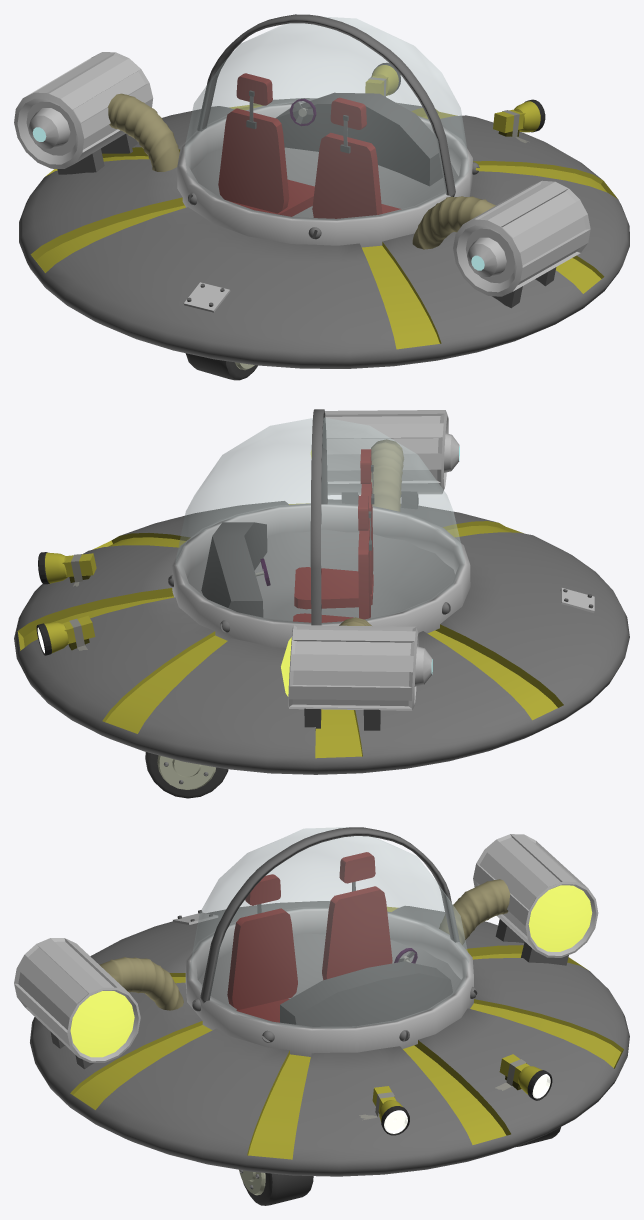
File: Nave.glb
3 views of the same model, one above another, from view 1: azimuth 30°, elevation 25°; view 2: azimuth 150°, elevation 25°; view 3: azimuth 270°, elevation 25° (orthographic). The views are drawn at different scales.
Parts seen in each view (by area): view 1: Carcasa.001, Cupula, Carcasa.003, Foco.001, Foco2.006, Asiento1, Cuadro_Mandos, Asiento2, Carcasa, Foco2, Foco.003, Foco2.001 (+5 smaller); view 2: Carcasa.001, Cupula, Carcasa.003, Foco2.006, Foco.001, Cuadro_Mandos, Asiento2, Carcasa, Rueda.002, Foco.003, Asiento1, Linterna.003 (+2 smaller); view 3: Carcasa.001, Cupula, Carcasa.003, Foco.001, Foco2.006, Cuadro_Mandos, Asiento2, Asiento1, Carcasa, Foco.003, Foco2, Rueda.001.
Boxes of the visible parts, x1,y1,x2,y2 form: Carcasa.001: (19, 98, 629, 368); Cupula: (184, 16, 469, 220); Carcasa.003: (177, 101, 472, 247); Foco.001: (453, 180, 590, 296); Foco2.006: (14, 52, 153, 168); Asiento1: (218, 73, 314, 216); Cuadro_Mandos: (275, 92, 442, 186); Asiento2: (312, 97, 401, 218); Carcasa: (197, 14, 455, 196); Foco2: (107, 93, 179, 171); Foco.003: (412, 196, 495, 249); Foco2.001: (28, 108, 70, 148); Carcasa.001: (14, 499, 629, 774); Cupula: (175, 417, 464, 624); Carcasa.003: (172, 502, 470, 647); Foco2.006: (281, 625, 418, 710); Foco.001: (310, 410, 448, 495); Cuadro_Mandos: (201, 522, 267, 617); Asiento2: (294, 449, 374, 609); Carcasa: (310, 409, 327, 625); Rueda.002: (145, 752, 228, 798); Foco.003: (371, 439, 403, 511); Asiento1: (293, 495, 371, 622); Linterna.003: (45, 552, 67, 583); Carcasa.001: (30, 901, 629, 1176); Cupula: (189, 827, 469, 1028); Carcasa.003: (185, 907, 473, 1056); Foco.001: (14, 938, 140, 1062); Foco2.006: (473, 834, 598, 957); Cuadro_Mandos: (280, 961, 452, 1026); Asiento2: (227, 874, 297, 1022); Asiento1: (322, 852, 392, 980); Carcasa: (200, 827, 459, 1003); Foco.003: (99, 957, 183, 1010); Foco2: (439, 879, 510, 945); Rueda.001: (239, 1169, 313, 1205).
Size of the model in its own units: 5.93 by 3.22 by 6.09.
